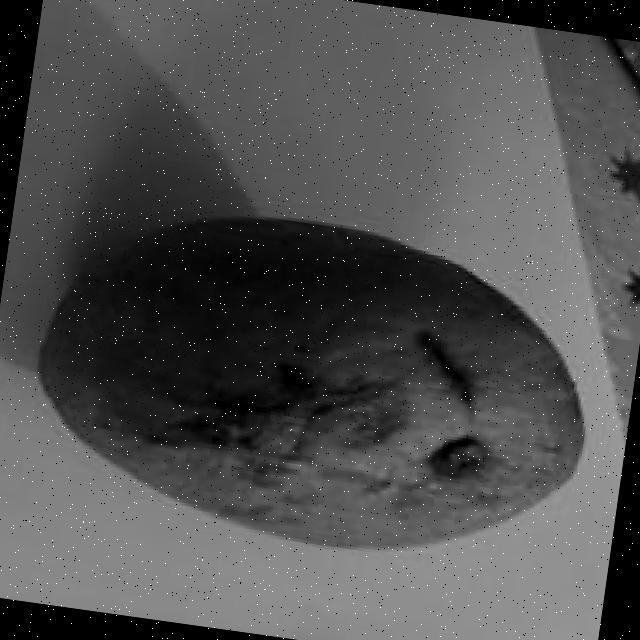overripe: (9, 178, 616, 588)
